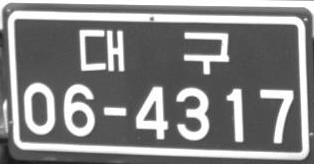0: (23, 81, 56, 135)
1: (221, 87, 252, 143)
3: (176, 86, 210, 141)
4: (135, 85, 168, 139)
6: (61, 83, 96, 136)
7: (259, 88, 294, 144)
대구_D: (79, 28, 229, 75)
